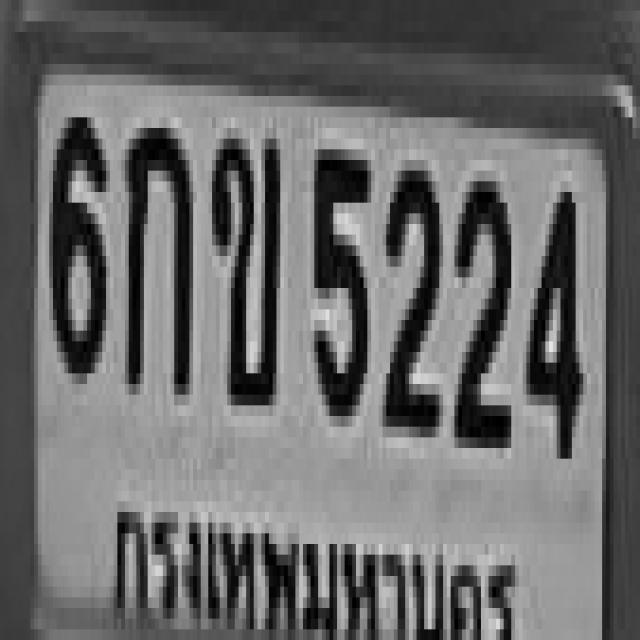10GorGai: (122, 117, 190, 384)
11KhorKhai: (208, 128, 276, 395)
2: (378, 160, 436, 427), (450, 171, 508, 437)
4: (520, 181, 578, 448)
5: (310, 139, 368, 416)
6: (49, 107, 102, 373)
Bangkok: (112, 492, 518, 640)
